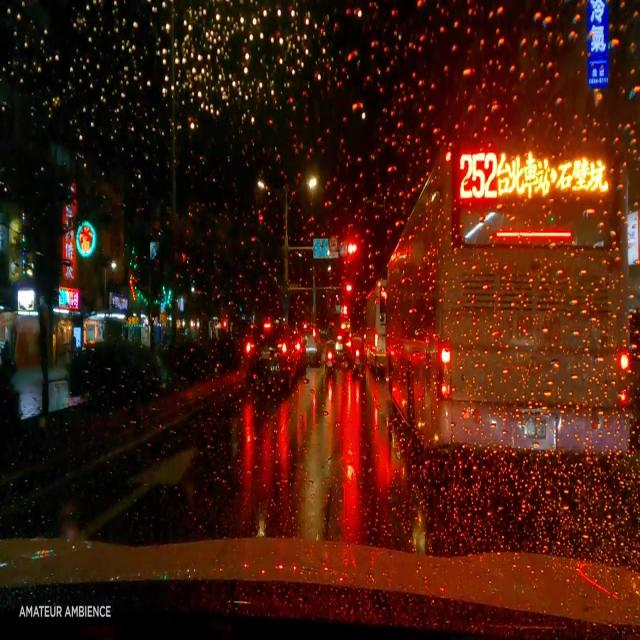Car: (244, 321, 293, 396), (303, 317, 318, 365)
